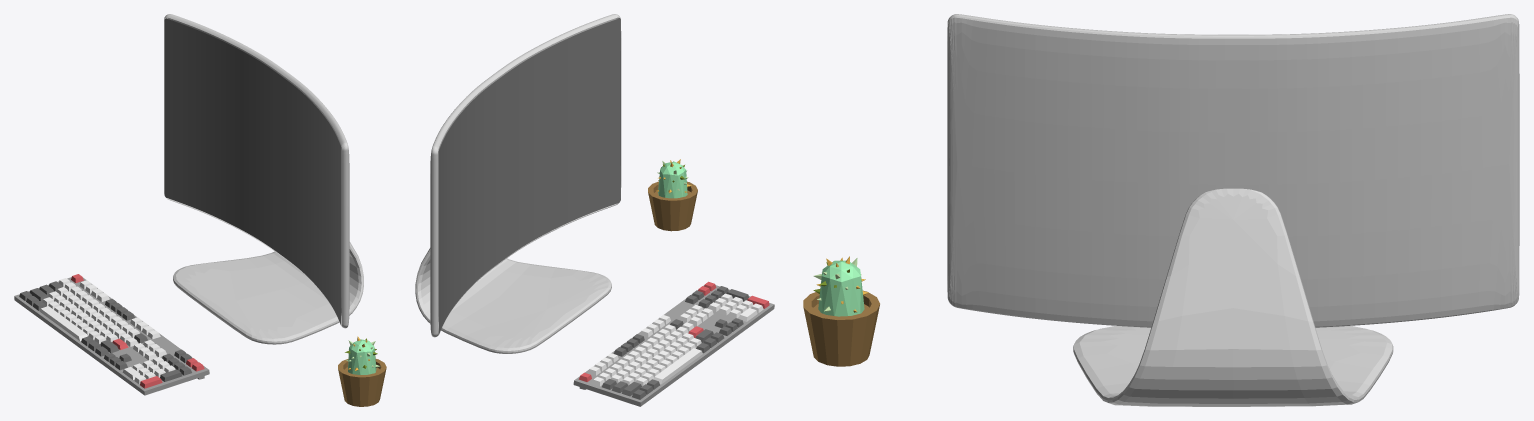
Rendered from computer.glb.
3 renders of one model, left to right at view 1: azimuth 30°, elevation 25°; view 2: azimuth 150°, elevation 25°; view 3: azimuth 270°, elevation 25°, orthographic. The views are drawn at different scales.
Parts seen in each view (by area): view 1: Screen, Base, KeyboardBase, Cylinder, Icosphere, Space; view 2: Screen, Base, KeyboardBase, Cylinder, Icosphere, Space; view 3: Screen, Base, Cylinder, Icosphere.
Boxes of the visible parts, <box> form: Screen: <box>164,14,349,328</box>; Base: <box>173,242,363,344</box>; KeyboardBase: <box>14,277,209,395</box>; Cylinder: <box>338,358,386,406</box>; Icosphere: <box>348,339,376,374</box>; Space: <box>39,306,87,341</box>; Screen: <box>430,14,621,337</box>; Base: <box>415,248,611,353</box>; KeyboardBase: <box>573,285,774,406</box>; Cylinder: <box>648,181,697,231</box>; Icosphere: <box>658,161,687,198</box>; Space: <box>653,348,702,384</box>; Screen: <box>947,14,1519,327</box>; Base: <box>1073,188,1393,406</box>; Cylinder: <box>803,290,879,366</box>; Icosphere: <box>818,260,864,316</box>.
Size of the model in its own units: 4.18 by 3.54 by 6.43.
